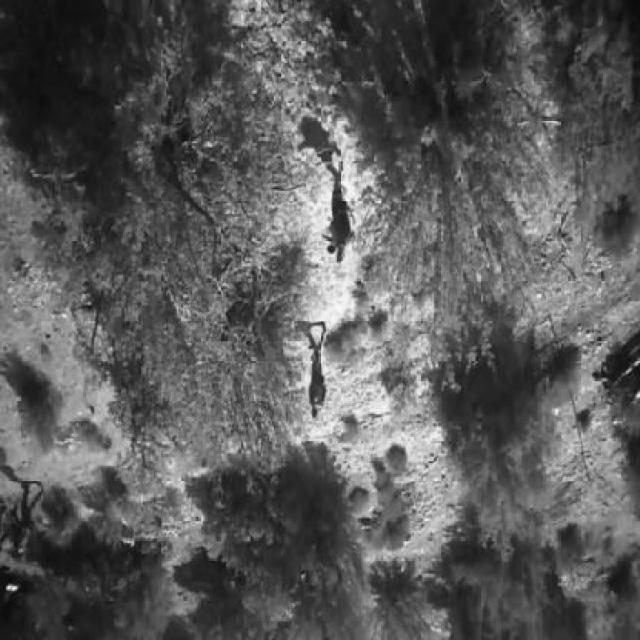Person: (323, 161, 351, 267), (306, 327, 331, 426)
